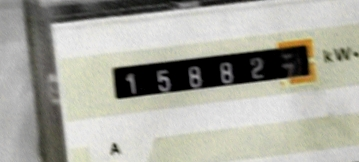1: (123, 70, 140, 96)
2: (248, 53, 267, 81)
5: (154, 66, 173, 93)
7: (280, 60, 296, 77)
8: (185, 63, 205, 89), (217, 57, 235, 84)
screen: (97, 30, 329, 114)
